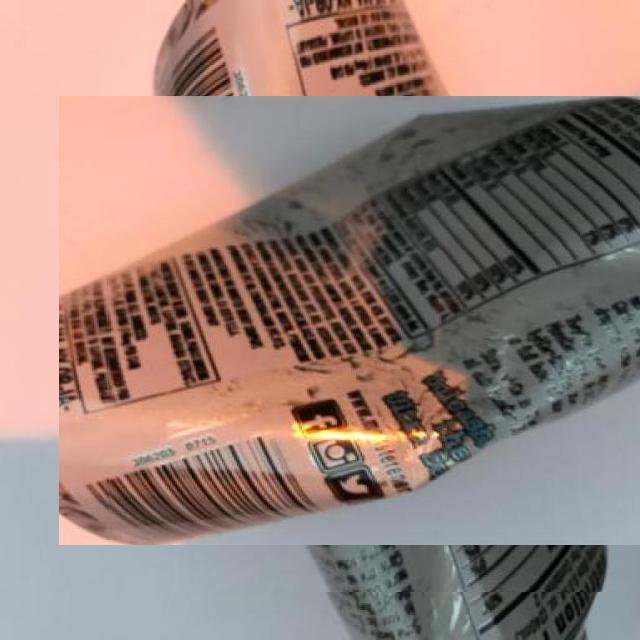recyclable: (106, 47, 640, 592)
